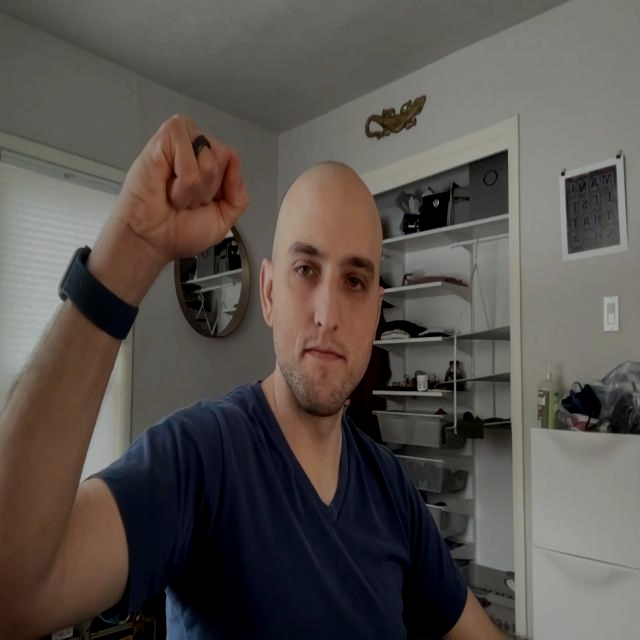Rock: (123, 110, 252, 263)
